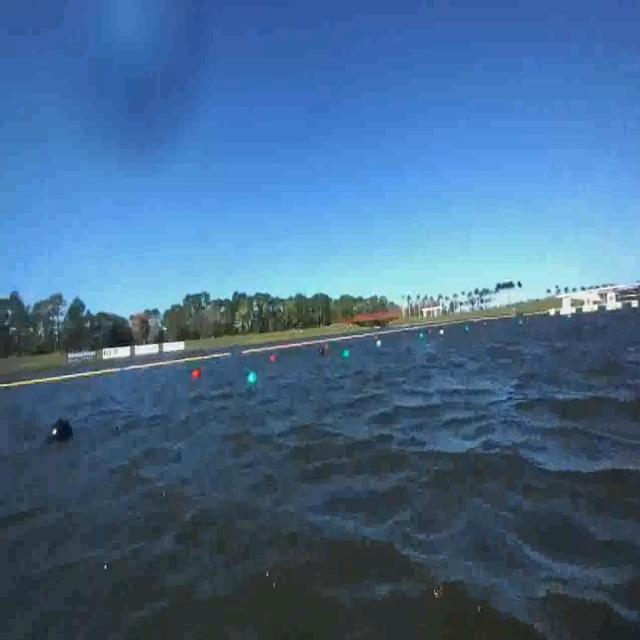black-buoy: (48, 416, 76, 444)
green-buoy: (343, 346, 352, 364), (248, 372, 257, 386)
red-buoy: (269, 350, 280, 366), (191, 368, 200, 379)
